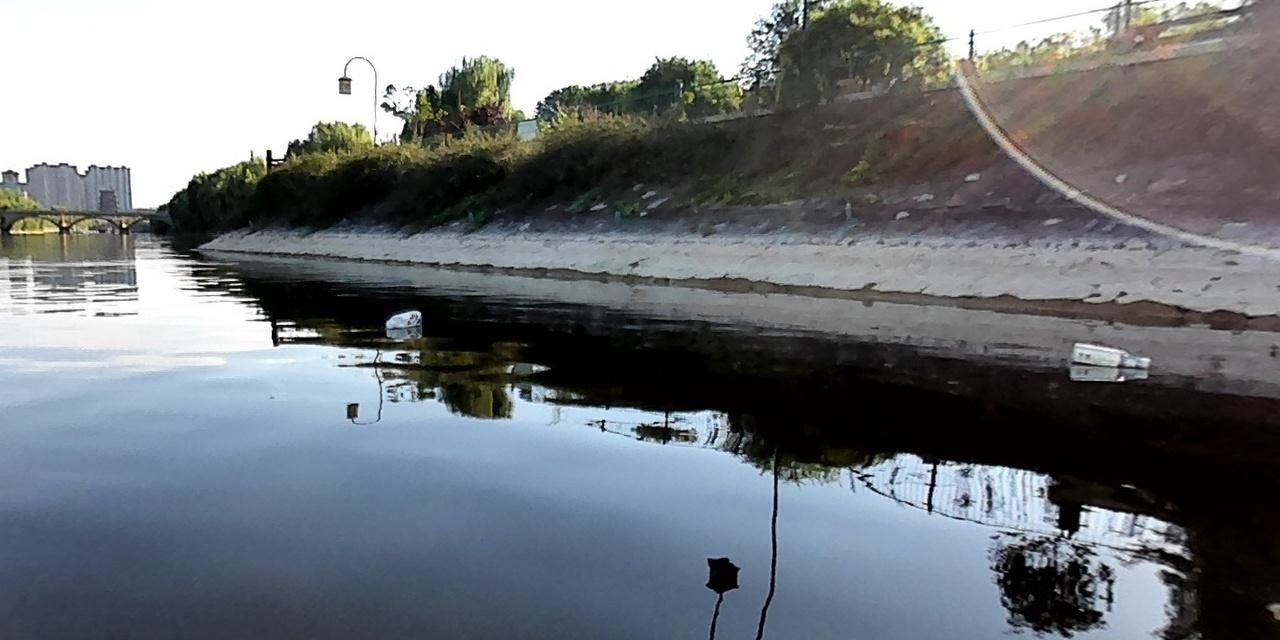bottle: (1068, 336, 1153, 372), (380, 306, 426, 330)
